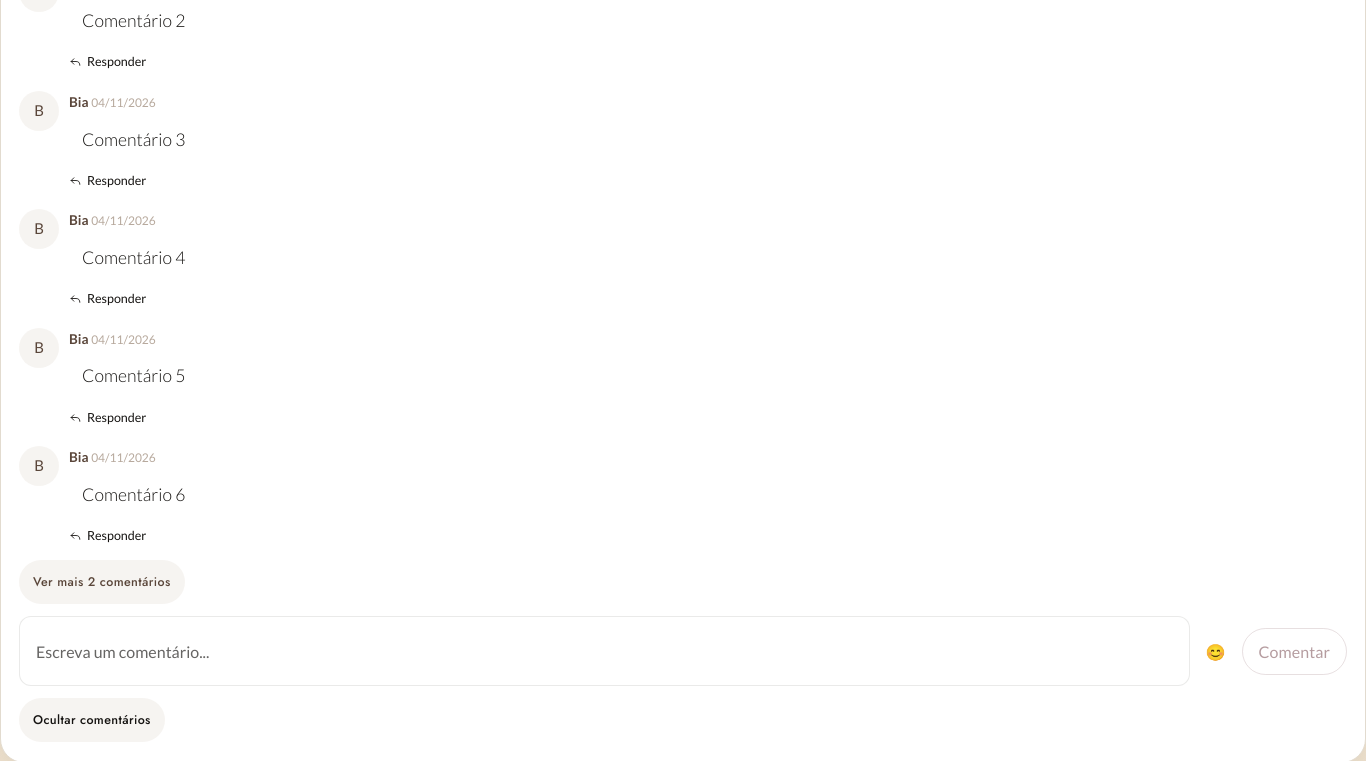
it: PostCard — conversa do feed aberta abaixo da mensagem › mostra até 6 comentários e recolhe os seguintes atrás de "Ver mais"
The image size is (1366, 761).
(page scrolled)
expect the text "Comentário 6" is shown: met, box [82, 484, 186, 505]
expect the text "Comentário 7" is not shown: met
Step 1. Click the button "Ver mais 2 comentários" → [102, 582], box [19, 560, 185, 604]
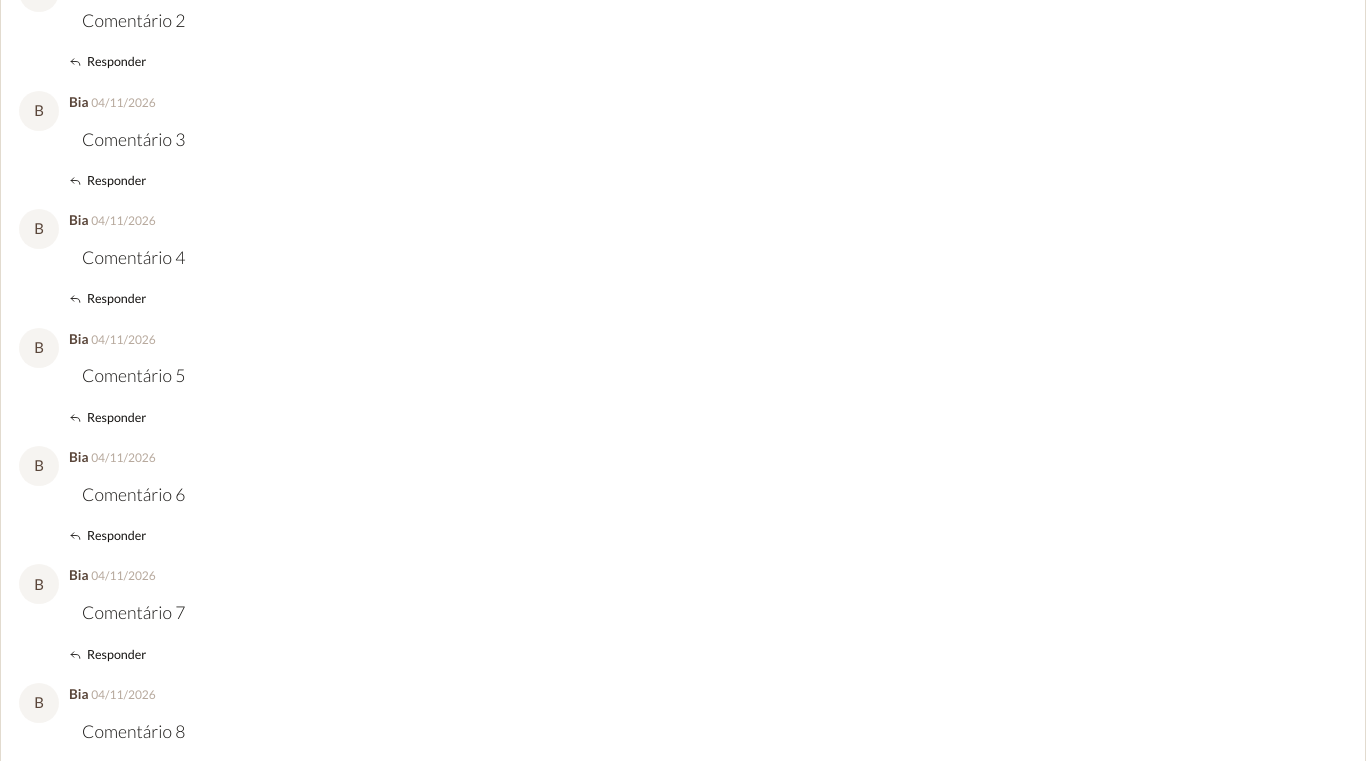
expect the text "Comentário 8" is shown: met, box [82, 721, 186, 742]
